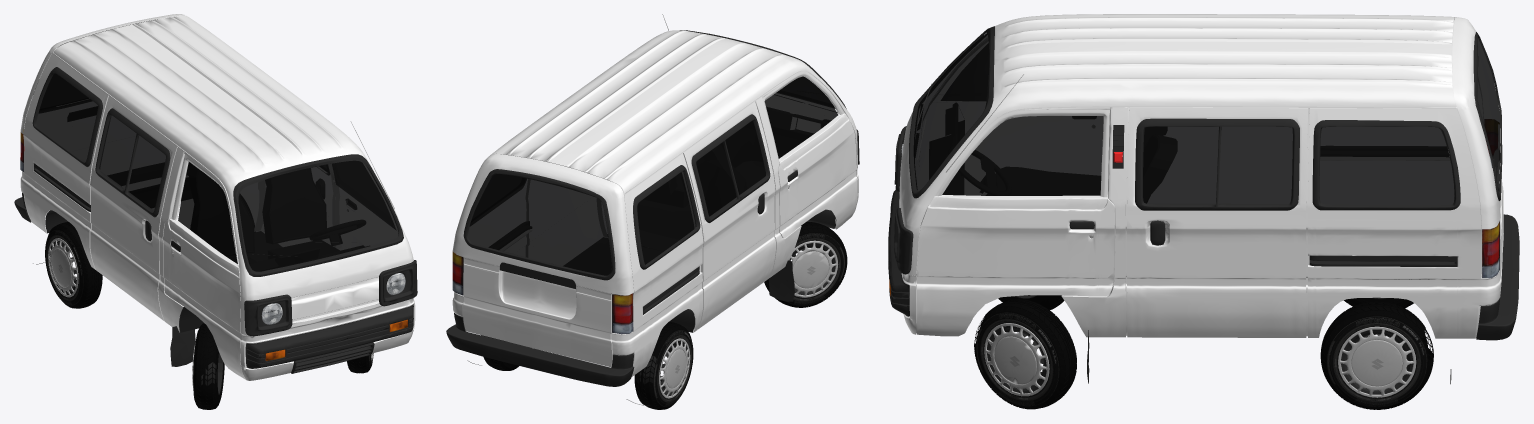
File: kei_van_lod0.glb
The picture shows the model from 3 angles, left to right: view 1: azimuth 30°, elevation 25°; view 2: azimuth 150°, elevation 25°; view 3: azimuth 270°, elevation 25°; orthographic projection. The views are drawn at different scales.
Parts seen in each view (by area): view 1: Object_124, Object_15, Object_116, Object_5, Object_122, Object_9, Object_70; view 2: Object_124, Object_116, Object_15, Object_5, Object_122, Object_9, Object_64; view 3: Object_124, Object_116, Object_15, Object_5, Object_9, Object_64.
Part boxes in pixels (x1,y1,x2,y2): Object_124: [20, 14, 415, 380]; Object_15: [14, 19, 417, 394]; Object_116: [36, 73, 398, 271]; Object_5: [45, 196, 373, 409]; Object_122: [45, 178, 280, 367]; Object_9: [48, 238, 373, 387]; Object_70: [261, 273, 405, 324]; Object_124: [452, 30, 858, 376]; Object_116: [468, 76, 837, 275]; Object_15: [446, 30, 859, 405]; Object_5: [481, 222, 847, 409]; Object_122: [565, 200, 836, 332]; Object_9: [659, 240, 838, 398]; Object_64: [452, 251, 633, 334]; Object_124: [899, 14, 1503, 338]; Object_116: [913, 33, 1500, 204]; Object_15: [888, 26, 1519, 394]; Object_5: [974, 295, 1433, 409]; Object_9: [984, 323, 1416, 397]; Object_64: [1482, 119, 1499, 278].
Bounding box in the file's own units: 1.6 × 1.88 × 3.3.
Materials: 15 (4 with a texture image).
